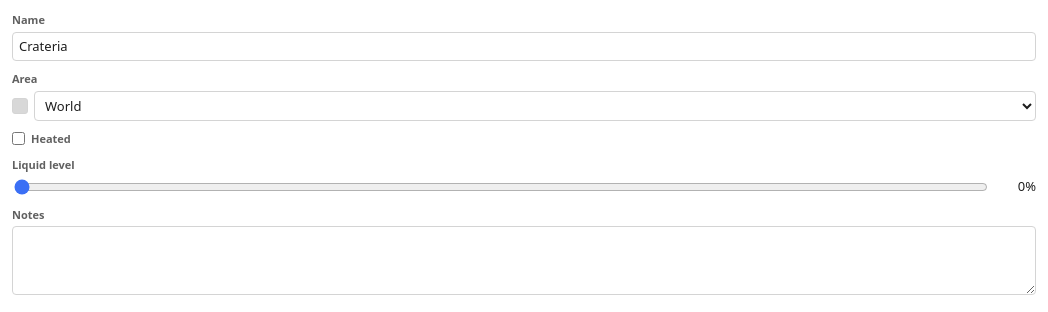
Scenario: InspectorPanel › the Room panel › previews the drag in the readout before anything is committed
Press the mouse on the slider with id "inspector-room-liquid" at coordinates (501, 186), box [14, 178, 988, 194]
Set the slider with id "inspector-room-liquid" to "20" at coordinates (214, 186), box [14, 178, 988, 194]
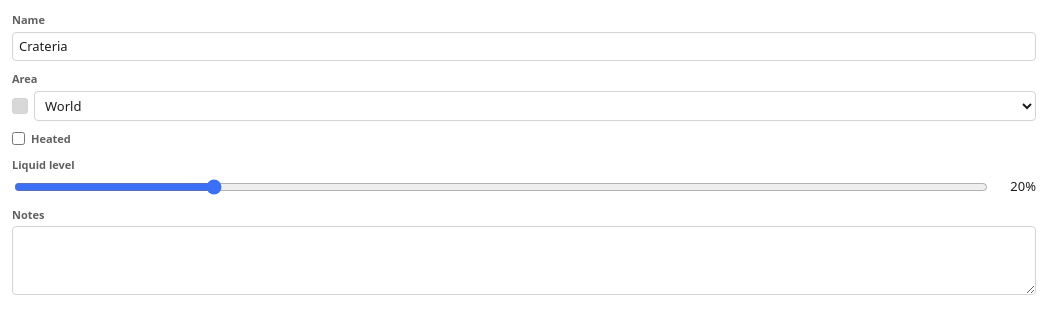
Set the slider with id "inspector-room-liquid" to "45" at coordinates (453, 186), box [14, 178, 988, 194]
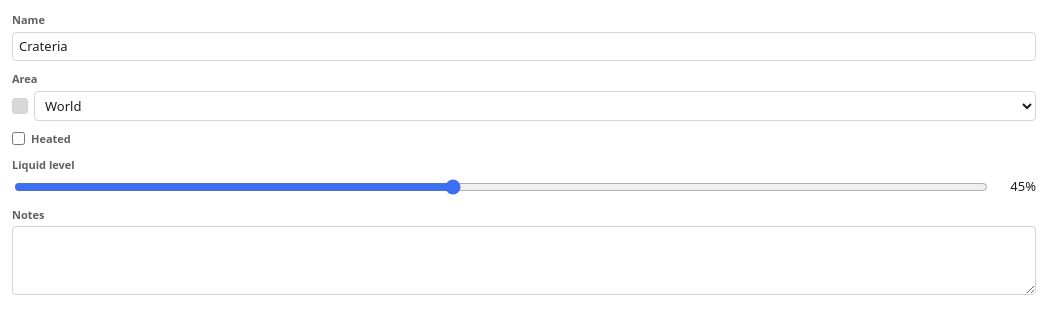
Result: the text with class "field-readout" reads "45%" at [1010, 177, 1036, 195]
